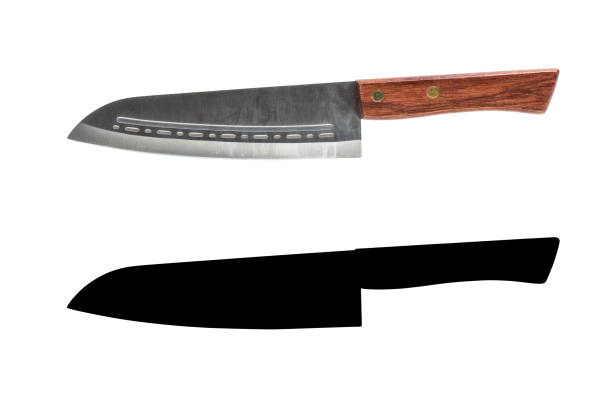knife: (64, 234, 562, 332), (66, 66, 562, 163)
